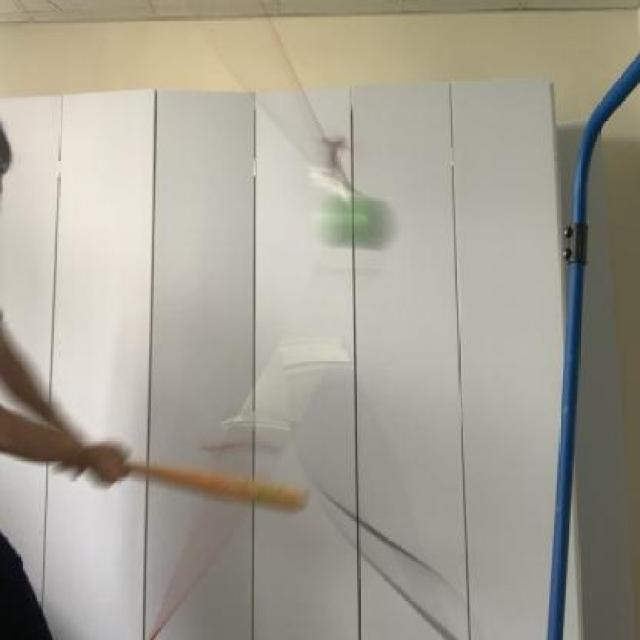baseball: (308, 174, 394, 289)
